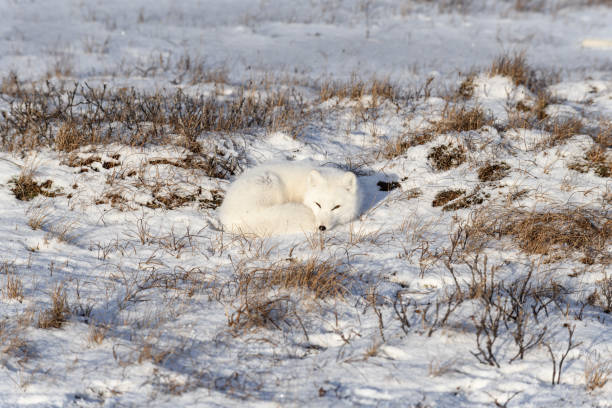arcticfox: (308, 186, 338, 232)
